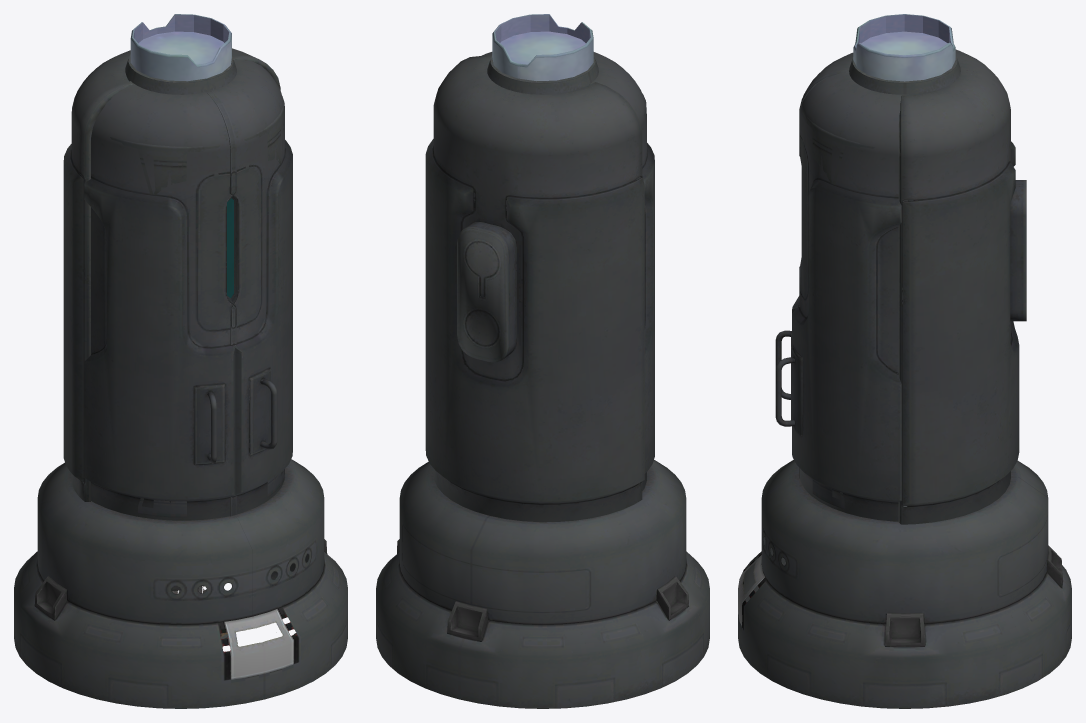
The model's file is sm23_022_culturetank01a.fbx.
3 renders of one model, left to right at view 1: azimuth 30°, elevation 25°; view 2: azimuth 150°, elevation 25°; view 3: azimuth 270°, elevation 25°, orthographic.
Visible parts, largest first — view 1: LOD_1_Group_1_Sub_1__sm46_502_CultureTank01A_B_Mat, LOD_1_Group_1_Sub_2__sm46_502_CultureTank01A_C_Mat, LOD_1_Group_0_Sub_2__sm23_037_Attachment01A_A_Mat__Env_Defau, LOD_1_Group_0_Sub_1__sm46_502_CultureTank01A_A_Mat__Env_Emis; view 2: LOD_1_Group_1_Sub_1__sm46_502_CultureTank01A_B_Mat, LOD_1_Group_1_Sub_2__sm46_502_CultureTank01A_C_Mat, LOD_1_Group_0_Sub_2__sm23_037_Attachment01A_A_Mat__Env_Defau; view 3: LOD_1_Group_1_Sub_1__sm46_502_CultureTank01A_B_Mat, LOD_1_Group_1_Sub_2__sm46_502_CultureTank01A_C_Mat, LOD_1_Group_0_Sub_2__sm23_037_Attachment01A_A_Mat__Env_Defau.
Part boxes in pixels (box(x1,y1,x2,y2)): LOD_1_Group_1_Sub_1__sm46_502_CultureTank01A_B_Mat: box(63, 48, 292, 520); LOD_1_Group_1_Sub_2__sm46_502_CultureTank01A_C_Mat: box(14, 54, 347, 708); LOD_1_Group_0_Sub_2__sm23_037_Attachment01A_A_Mat__Env_Defau: box(130, 14, 231, 81); LOD_1_Group_0_Sub_1__sm46_502_CultureTank01A_A_Mat__Env_Emis: box(227, 198, 233, 297); LOD_1_Group_1_Sub_1__sm46_502_CultureTank01A_B_Mat: box(425, 52, 654, 522); LOD_1_Group_1_Sub_2__sm46_502_CultureTank01A_C_Mat: box(376, 55, 709, 708); LOD_1_Group_0_Sub_2__sm23_037_Attachment01A_A_Mat__Env_Defau: box(492, 14, 593, 81); LOD_1_Group_1_Sub_1__sm46_502_CultureTank01A_B_Mat: box(775, 49, 1026, 524); LOD_1_Group_1_Sub_2__sm46_502_CultureTank01A_C_Mat: box(738, 55, 1071, 708); LOD_1_Group_0_Sub_2__sm23_037_Attachment01A_A_Mat__Env_Defau: box(853, 14, 955, 81).
Bounding box in the file's own units: 1.97 × 3.92 × 1.97.
